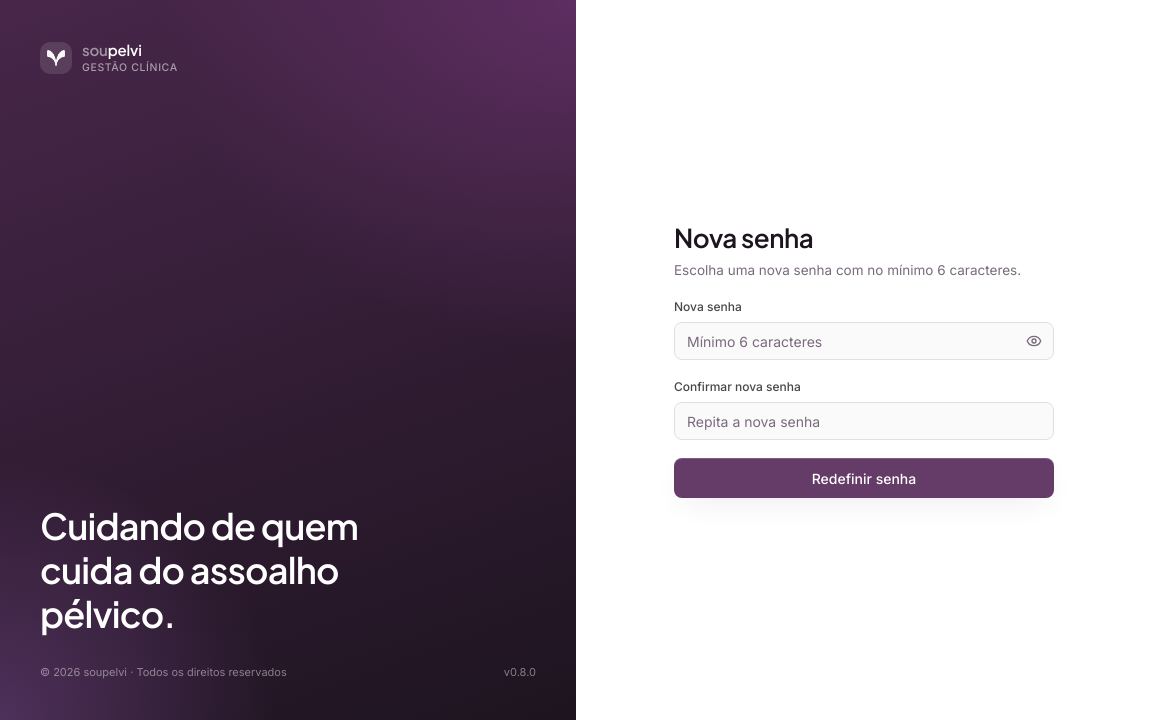
ResetPassword page › exibe mensagem de sucesso e botão para ir ao login
Type "novaSenha123" into the password field labelled "Nova senha".
click(864, 341); type("novaSenha123")  # box [674, 322, 1054, 360]
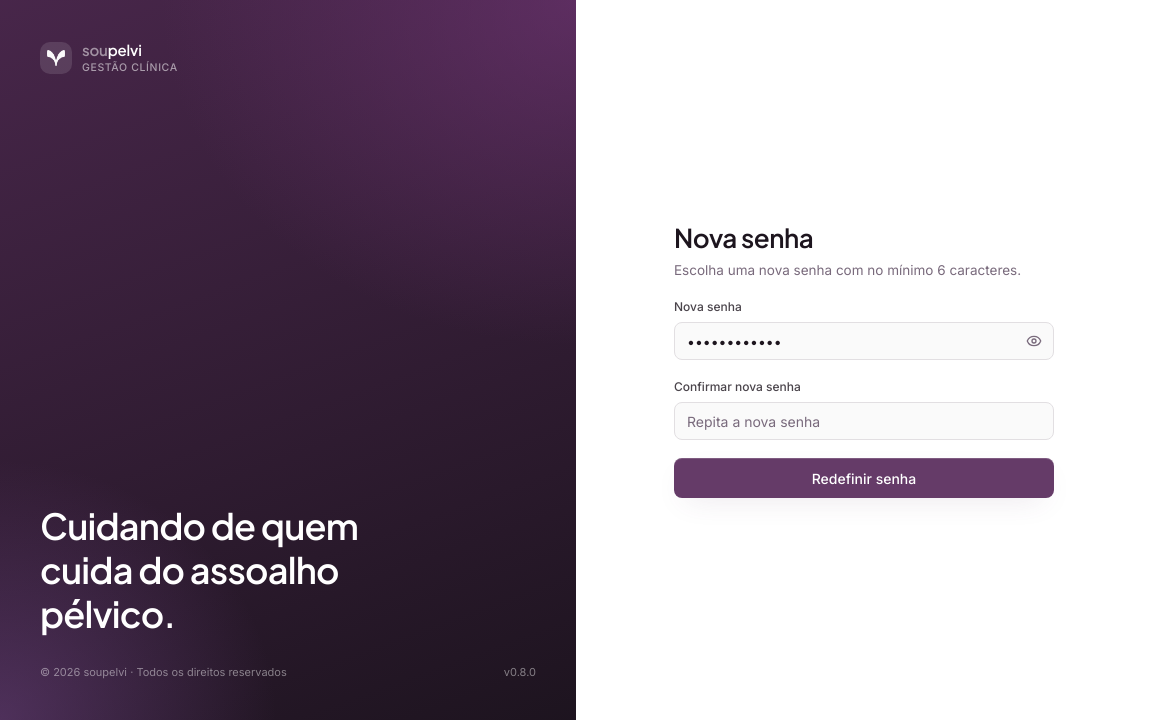
Type "novaSenha123" into the password field labelled "Confirmar nova senha".
click(864, 421); type("novaSenha123")  # box [674, 402, 1054, 440]
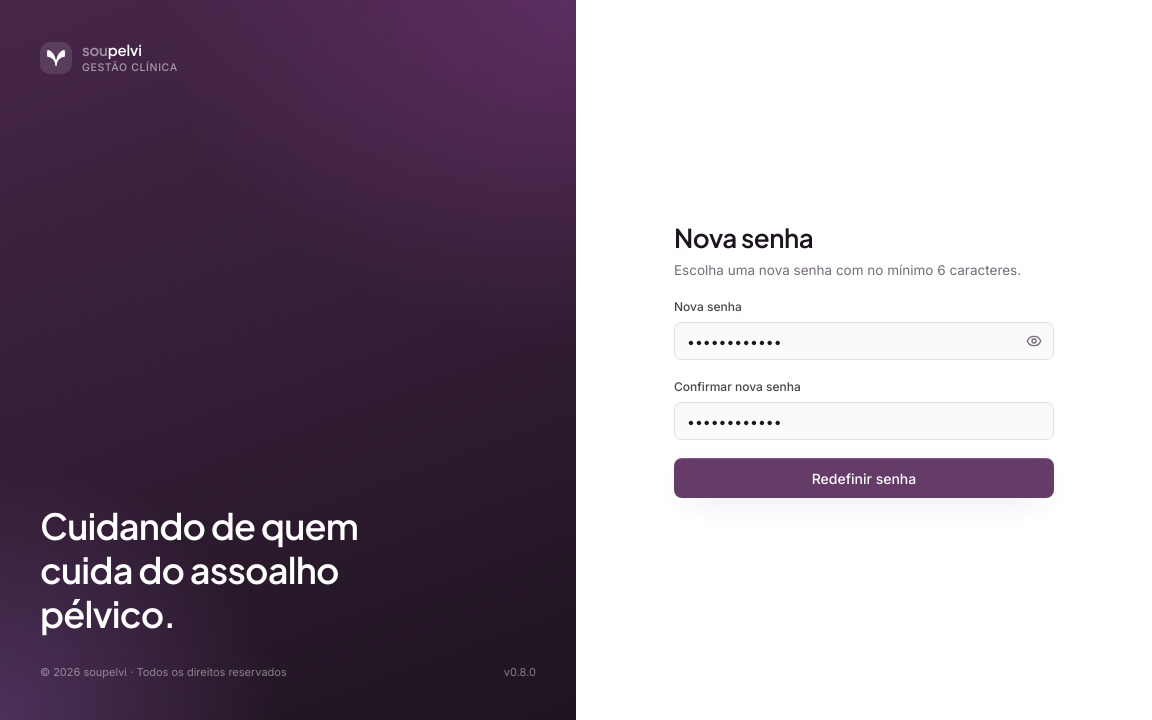
Click the button "Redefinir senha".
click(864, 478)  # box [674, 458, 1054, 498]
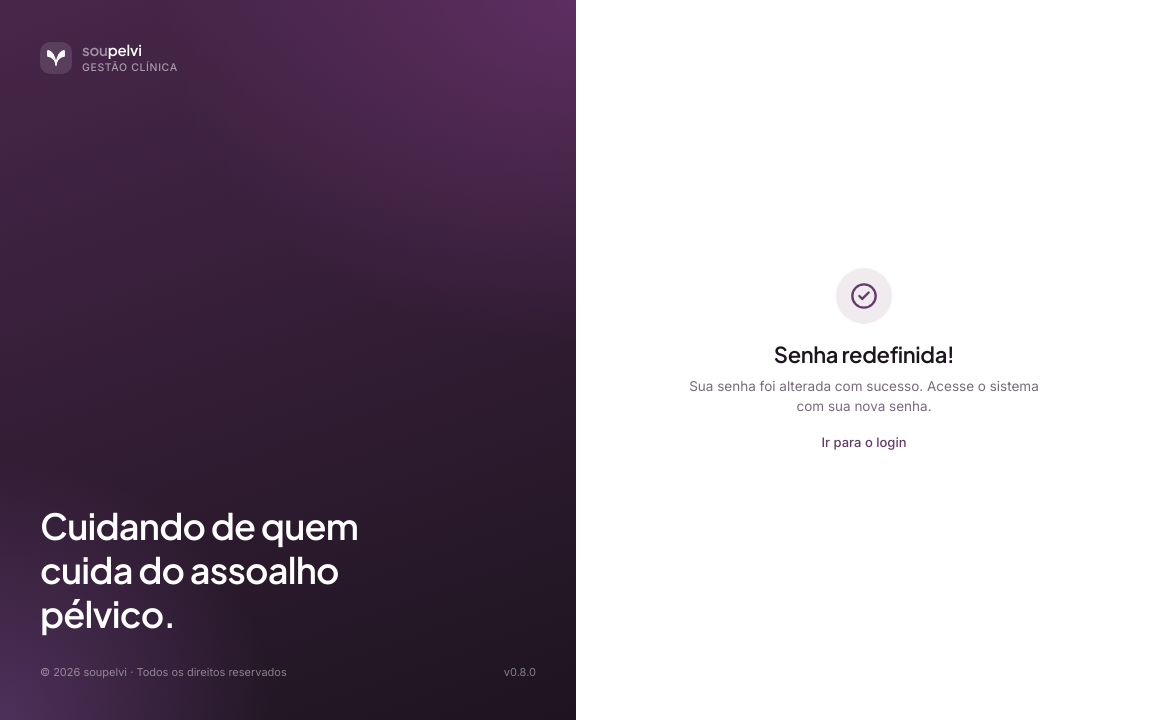
Now the heading "Senha redefinida!" is shown, box [774, 340, 954, 368]
Now the link "Ir para o login" is shown, box [822, 432, 906, 452]
